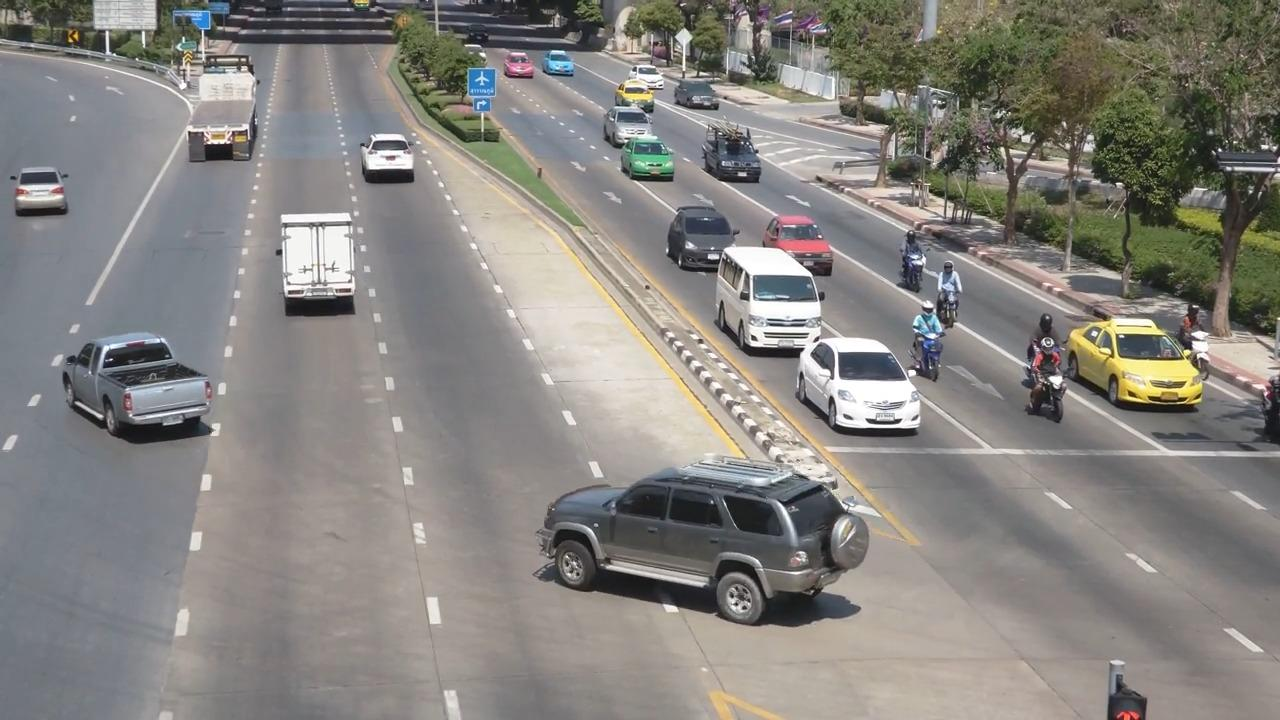CAR: (529, 440, 894, 647), (47, 309, 242, 462), (256, 195, 385, 321), (1075, 311, 1210, 422), (794, 317, 922, 434), (716, 240, 828, 357), (2, 149, 77, 245), (661, 198, 745, 278), (692, 116, 774, 196), (762, 206, 848, 280), (357, 124, 433, 197), (611, 132, 672, 194), (592, 97, 652, 142), (668, 70, 723, 114), (616, 55, 666, 89), (545, 41, 579, 78), (499, 45, 532, 77)
HGV_BUS: (166, 56, 270, 174)
MOTOR: (1014, 334, 1075, 410), (894, 299, 949, 383), (878, 216, 934, 294), (928, 255, 973, 322), (1179, 298, 1213, 370)
